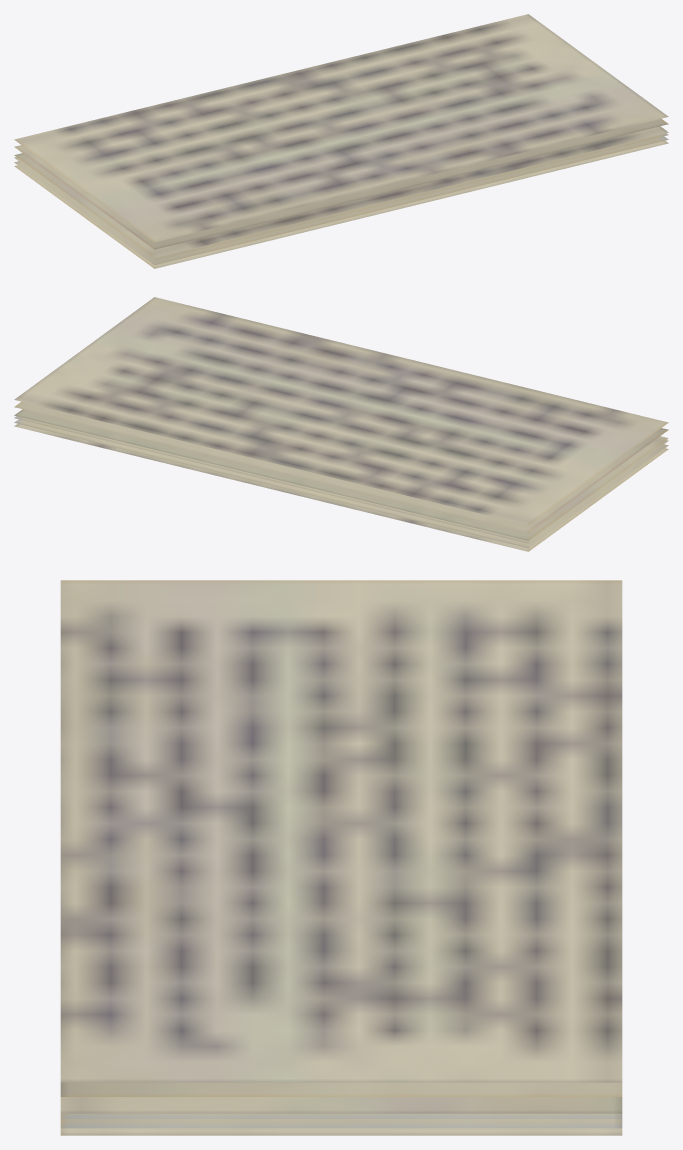
The model's file is note_folded.obj.
The picture shows the model from 3 angles, top to bottom: view 1: azimuth 30°, elevation 25°; view 2: azimuth 150°, elevation 25°; view 3: azimuth 270°, elevation 25°; orthographic projection. The views are drawn at different scales.
Parts seen in each view (by area): view 1: note_folded, note_folded_bottom, note_folded_top; view 2: note_folded, note_folded_bottom, note_folded_top; view 3: note_folded, note_folded_bottom, note_folded_top.
Part boxes in pixels (bbox=[...]): note_folded: bbox=[14, 14, 668, 265]; note_folded_bottom: bbox=[14, 118, 668, 257]; note_folded_top: bbox=[14, 133, 668, 268]; note_folded: bbox=[14, 297, 668, 548]; note_folded_bottom: bbox=[14, 401, 668, 540]; note_folded_top: bbox=[14, 416, 668, 551]; note_folded: bbox=[60, 580, 622, 1128]; note_folded_bottom: bbox=[60, 1082, 622, 1113]; note_folded_top: bbox=[60, 1113, 622, 1135].
Bounding box in the file's own units: 0.148 × 0.0073 × 0.07.
Materials: 1 (1 with a texture image).
